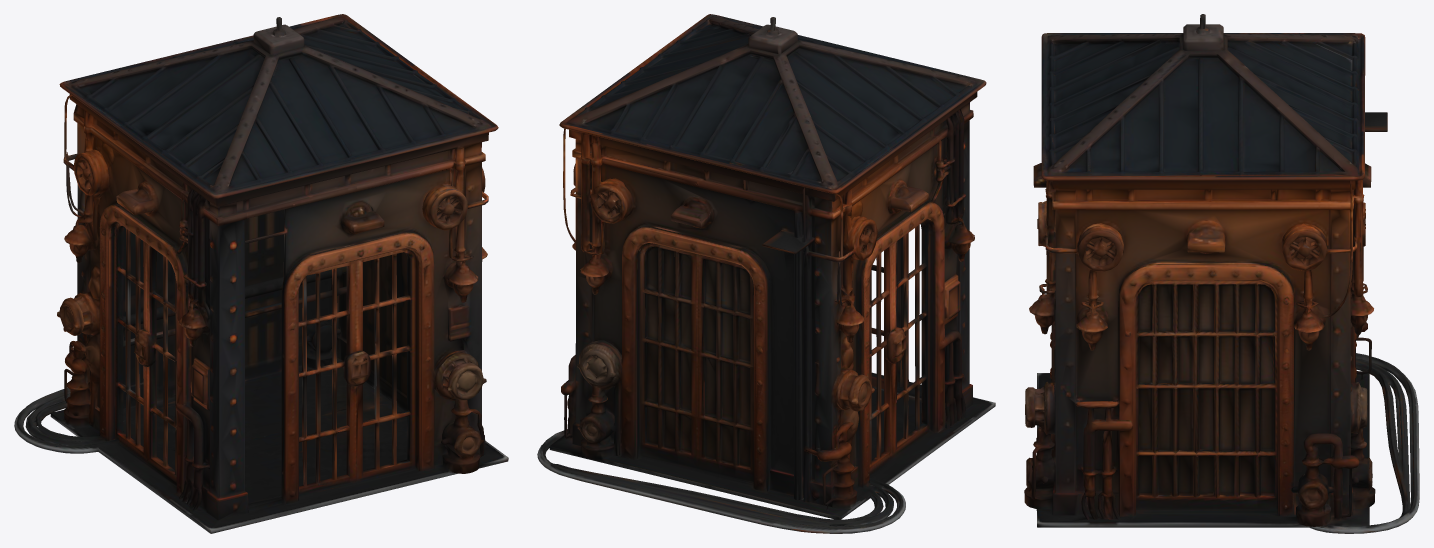
File: cage.glb
3 views of the same model, side by side, from view 1: azimuth 30°, elevation 25°; view 2: azimuth 150°, elevation 25°; view 3: azimuth 270°, elevation 25° (orthographic). The views are drawn at different scales.
Parts seen in each view (by area): view 1: Mesh_0; view 2: Mesh_0; view 3: Mesh_0.
Part boxes in pixels (x1,y1,x2,y2): Mesh_0: [14, 14, 508, 533]; Mesh_0: [537, 14, 995, 533]; Mesh_0: [1024, 14, 1419, 533].
Bounding box in the file's own units: 0.6999 × 0.804 × 0.6563.
1 material, 1 textured.
